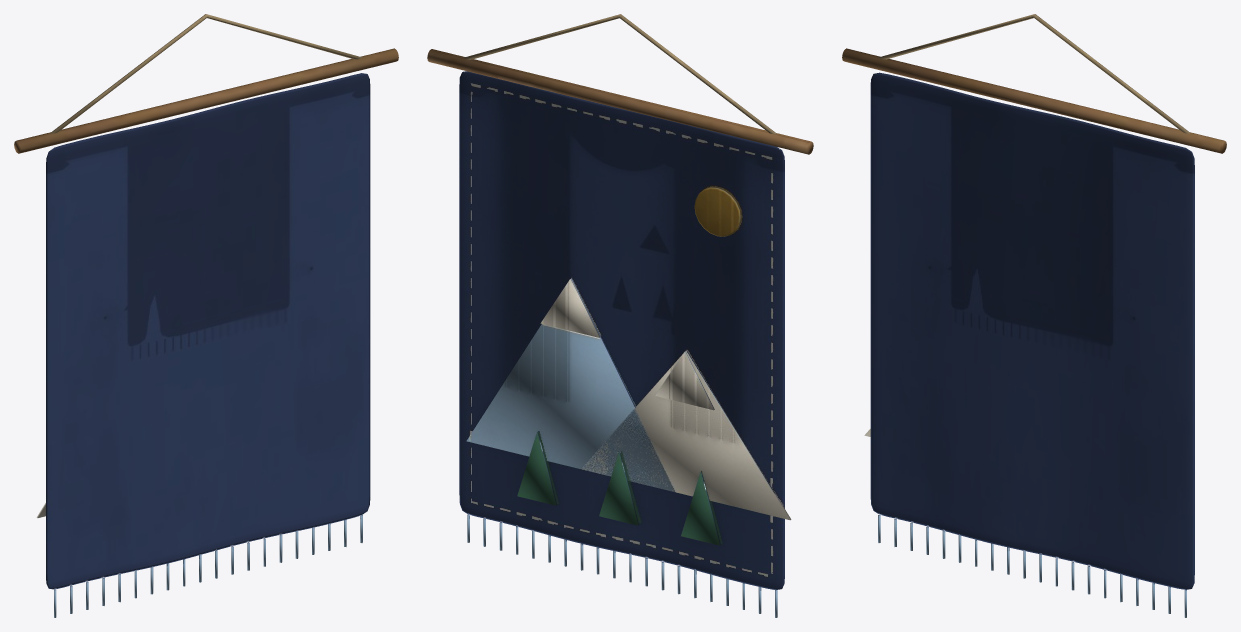
Rendered from tapestry_mountain.glb.
The picture shows the model from 3 angles, left to right: view 1: azimuth 30°, elevation 25°; view 2: azimuth 150°, elevation 25°; view 3: azimuth 330°, elevation 25°; orthographic projection.
Parts seen in each view (by area): view 1: prop_tapestry_mountain_felt, prop_tapestry_mountain_wood; view 2: prop_tapestry_mountain_felt, prop_tapestry_mountain_wood; view 3: prop_tapestry_mountain_felt, prop_tapestry_mountain_wood.
Boxes of the visible parts, <box> form: prop_tapestry_mountain_felt: <box>36,14,370,617</box>; prop_tapestry_mountain_wood: <box>14,48,398,153</box>; prop_tapestry_mountain_felt: <box>459,14,791,617</box>; prop_tapestry_mountain_wood: <box>427,49,813,154</box>; prop_tapestry_mountain_felt: <box>864,14,1194,617</box>; prop_tapestry_mountain_wood: <box>842,48,1226,153</box>.
Bounding box in the file's own units: 2.32 × 3.31 × 0.072.
2 materials, 2 textured.
